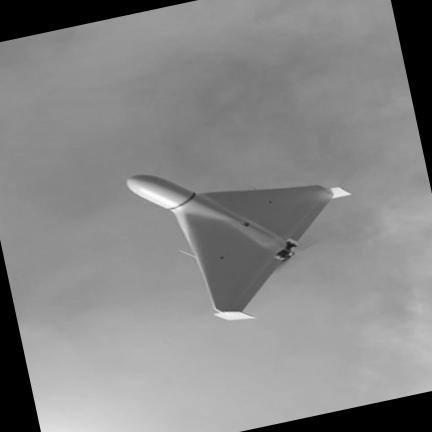Shahed: (127, 175, 350, 320)
